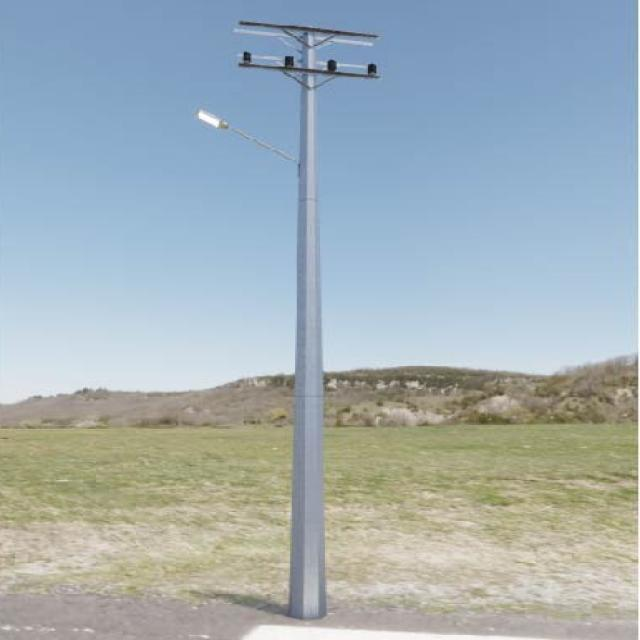Poste: (197, 20, 380, 618)
